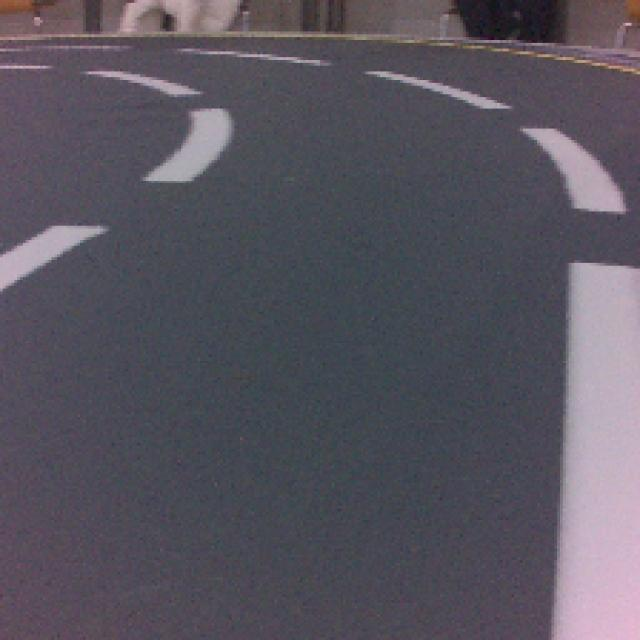Road: (0, 303, 567, 640)
